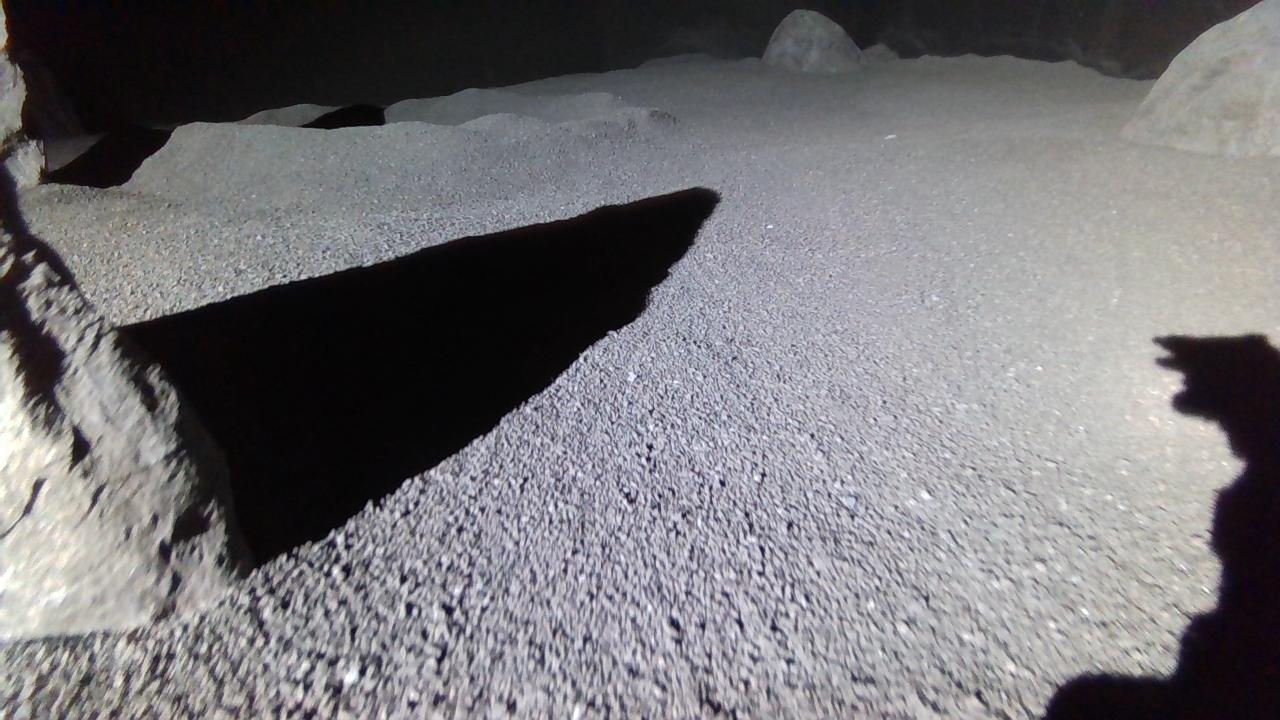rock: (0, 220, 249, 642), (4, 0, 45, 191), (763, 8, 868, 70)
